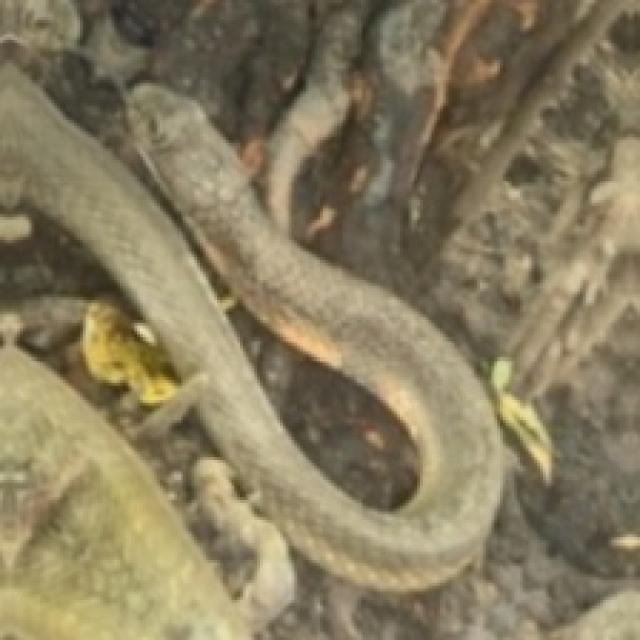king cobra: (0, 63, 500, 589)
